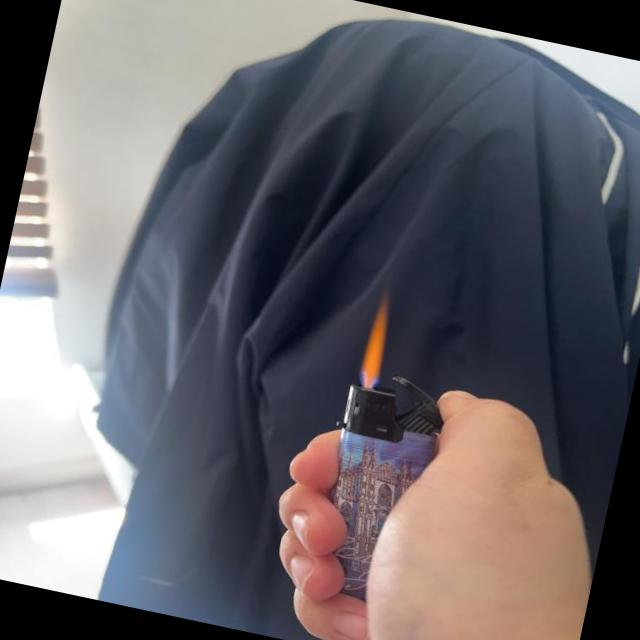Fire: (356, 296, 399, 387)
